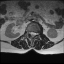CCS_normal: (32, 30, 34, 39)
LFS_normal: (36, 30, 38, 36)
LLS_normal: (34, 30, 36, 37)
RFS_normal: (27, 29, 30, 36)
RLS_normal: (30, 30, 32, 37)
